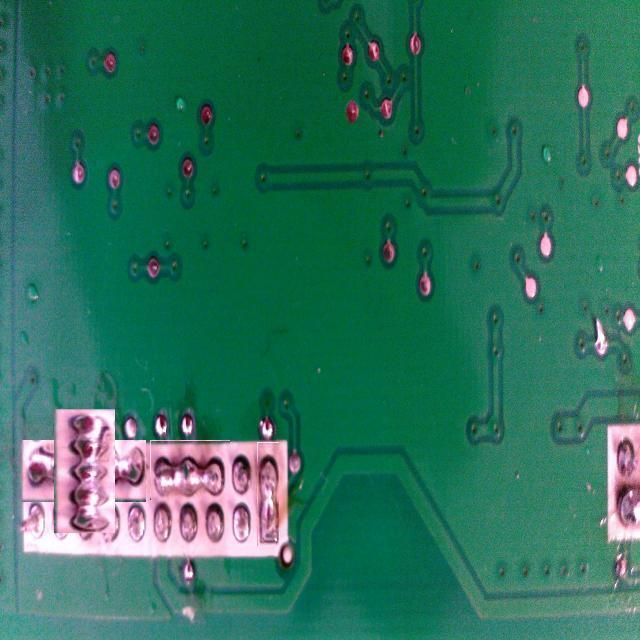Short_circuit: (38, 425, 131, 517), (150, 440, 230, 500), (257, 442, 279, 546)
